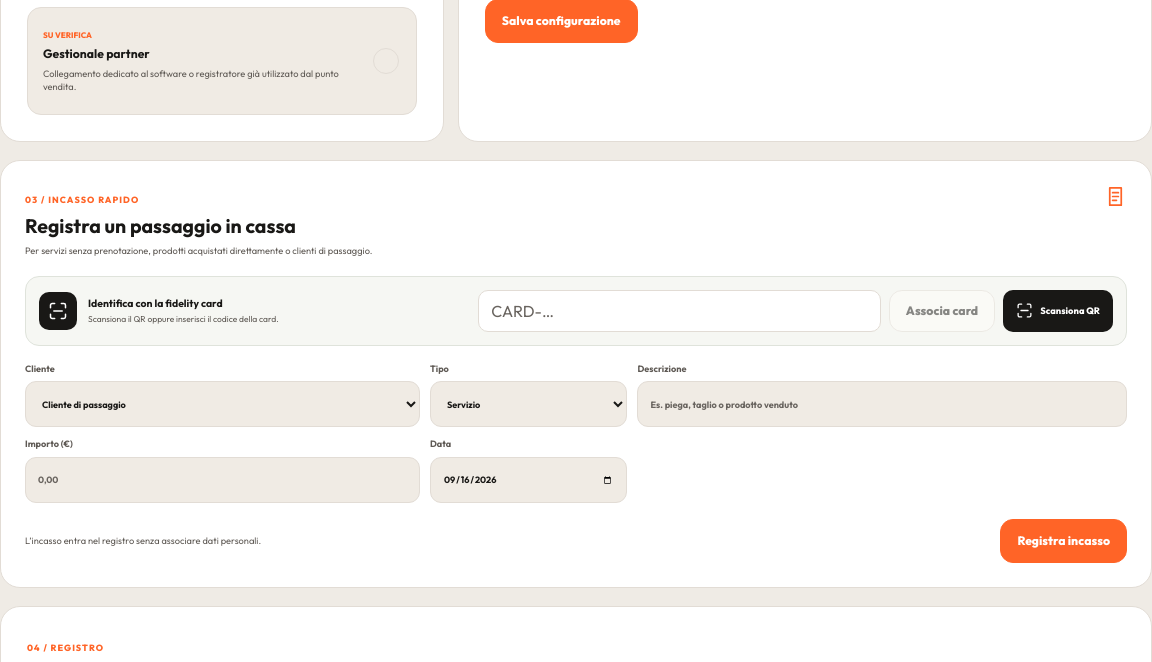
Scenario: CashIntegrationsPage › associa il cliente inserendo il codice della fidelity card
(page scrolled)
In the field named "Codice fidelity": (680, 311) [478,290,881,332], type "salon-fidelity:salone-x:CARD-ANNA"
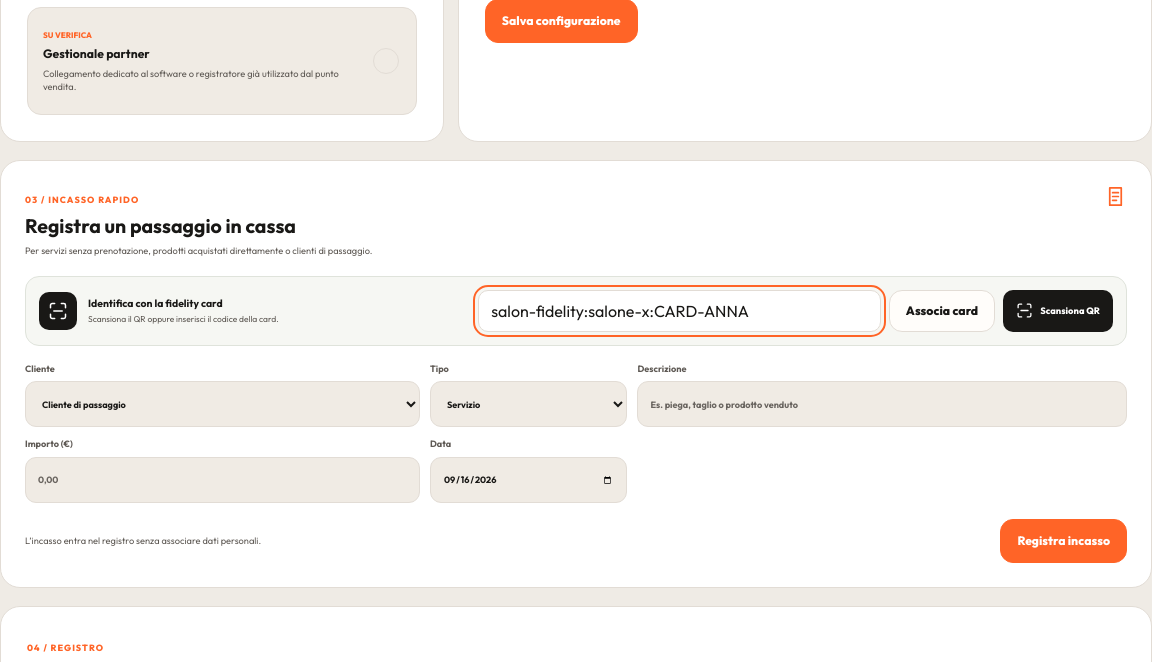
Click the button "Associa card": (942, 311) [889,290,995,332]
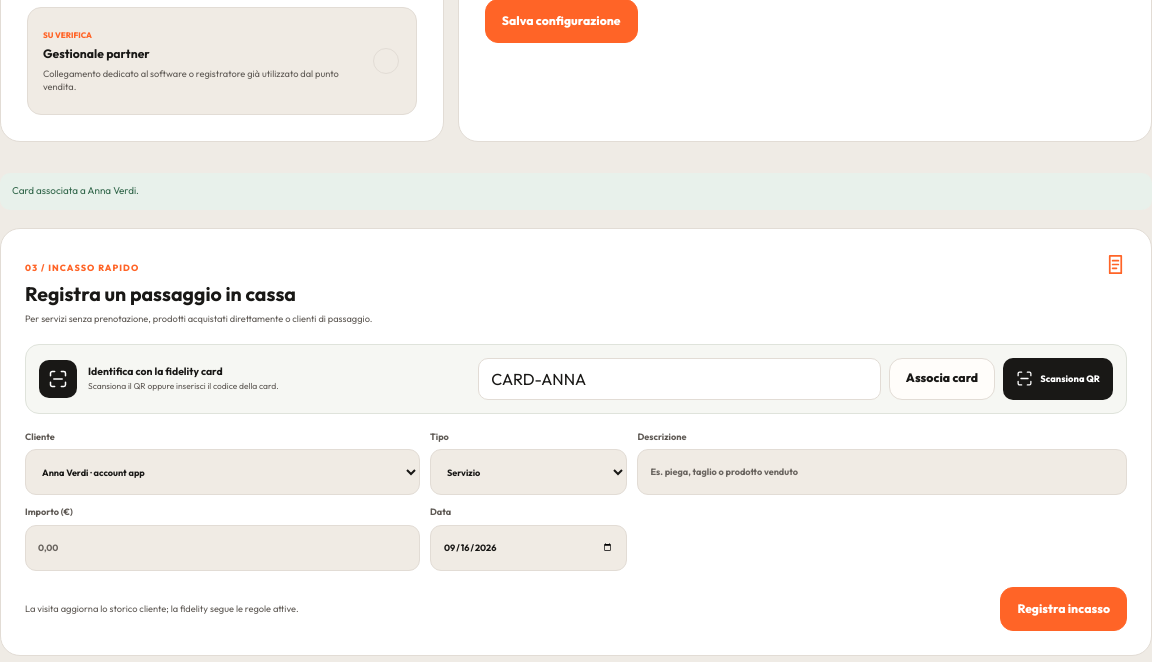
Now the dropdown labelled "Cliente" shows "Anna Verdi · account app", box [25,449,420,495]
Now the text "Card associata a Anna Verdi." is shown, box [0,173,1151,210]
